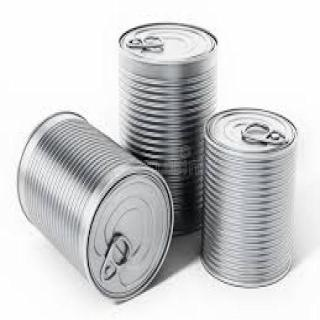Anorganik: (13, 106, 175, 302), (113, 14, 219, 226), (201, 100, 296, 288)
